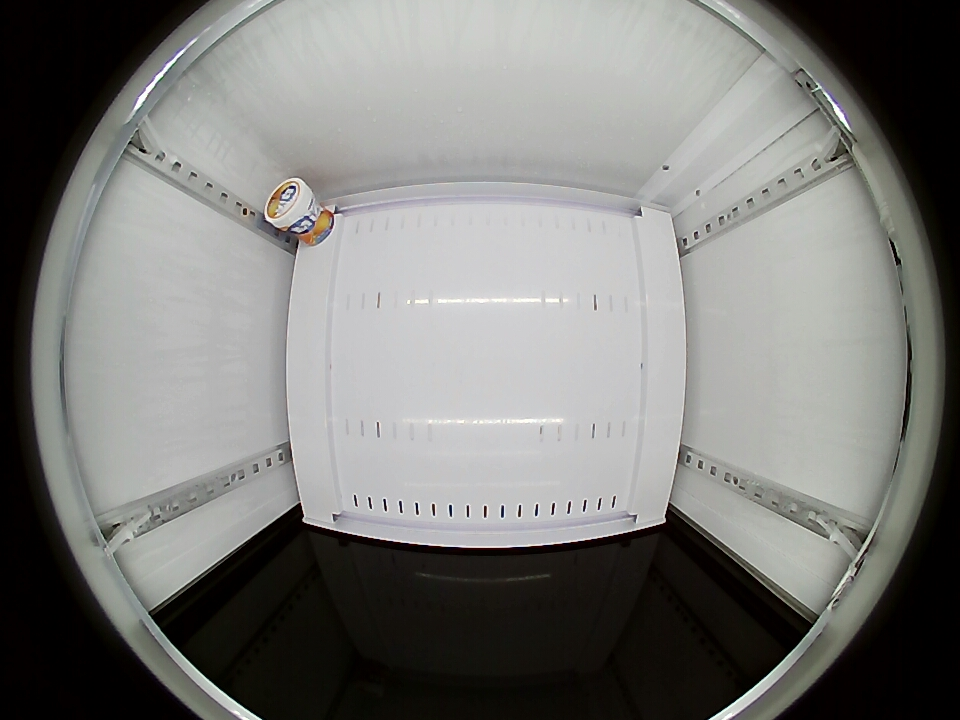yida: (264, 177, 318, 232)
